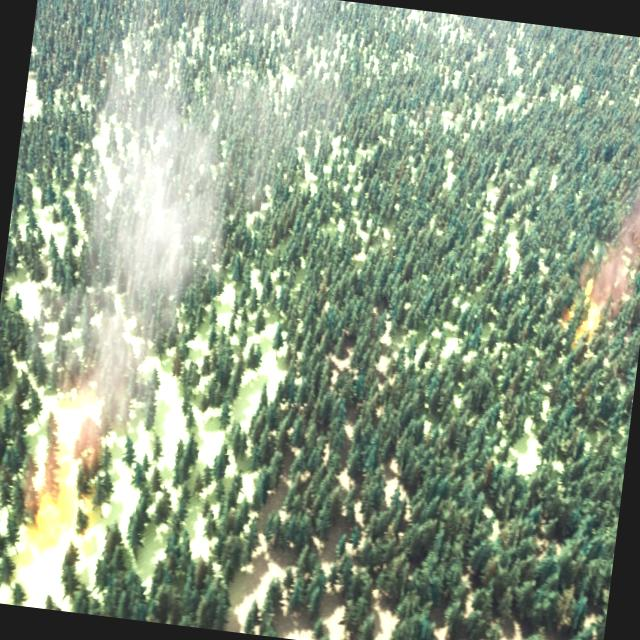fire: (24, 479, 83, 556), (562, 275, 612, 352)
smoke: (15, 0, 357, 500), (590, 189, 640, 301)
